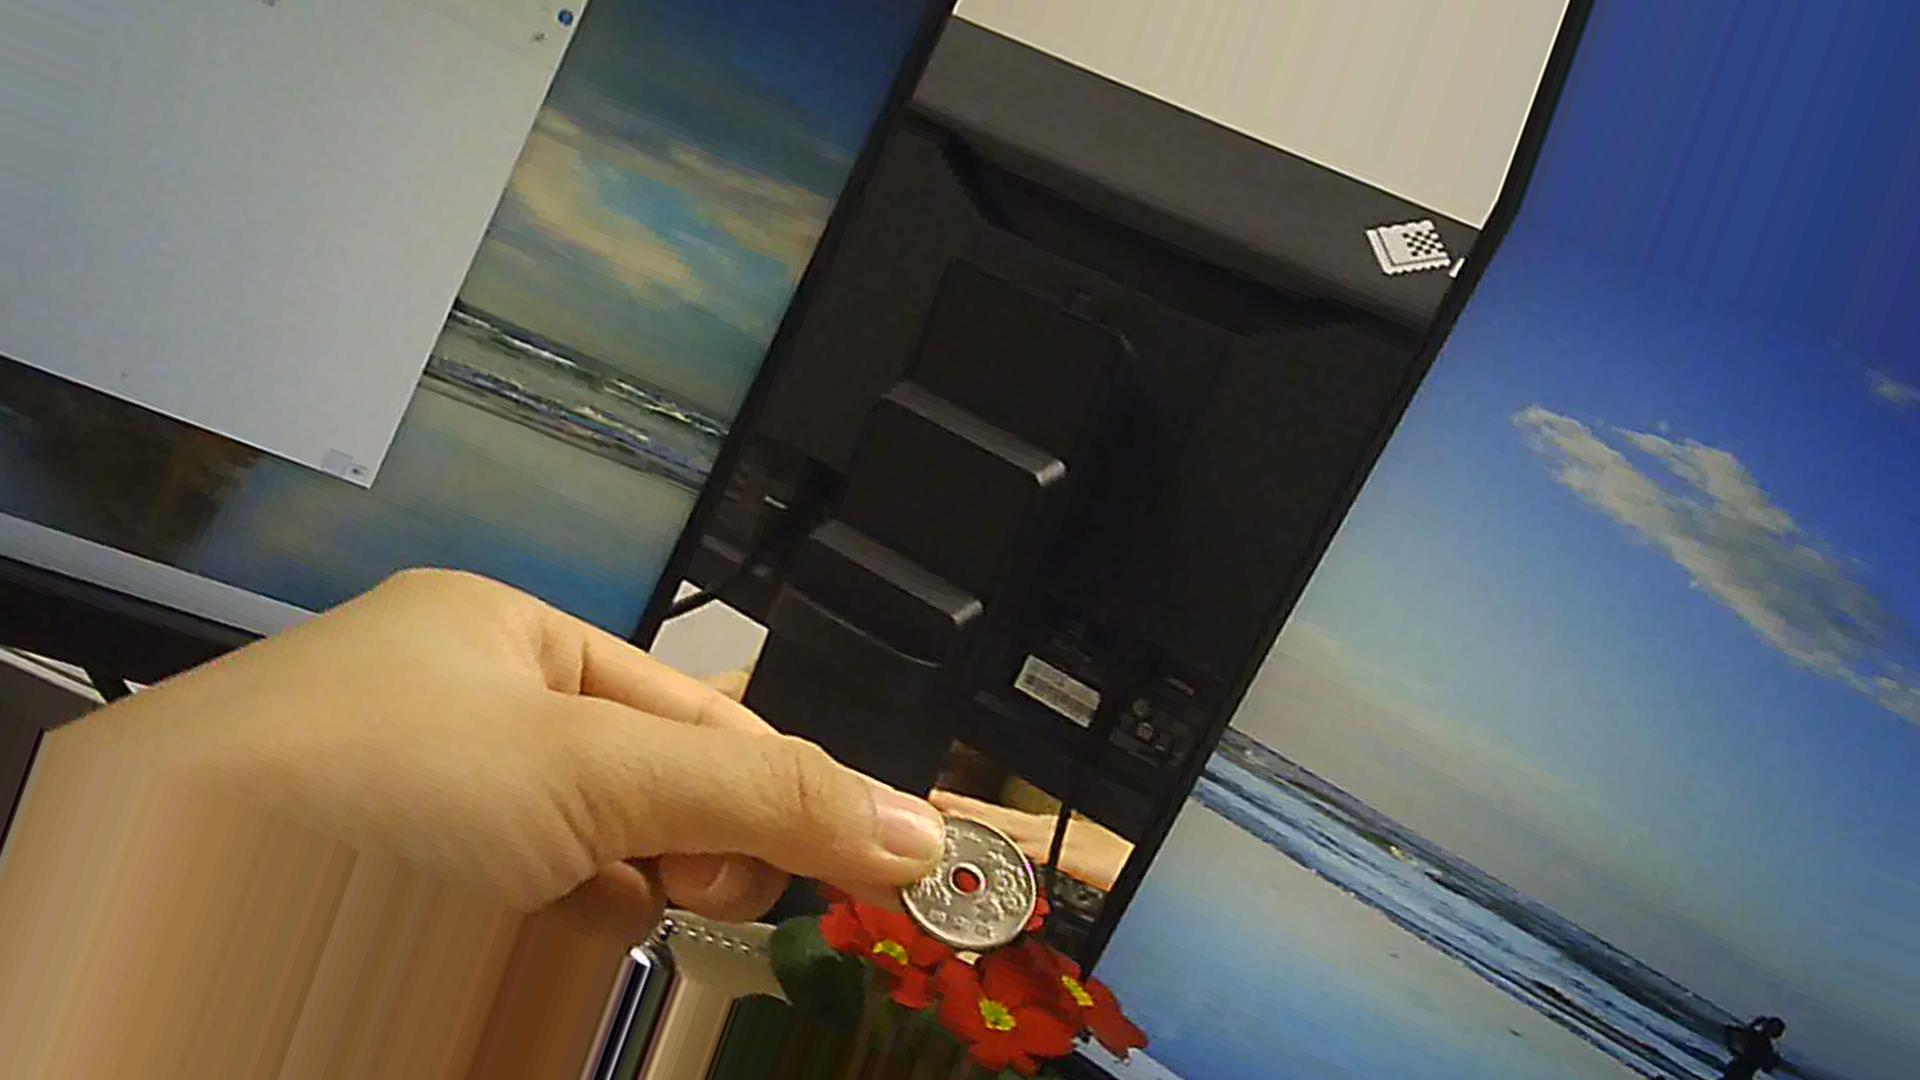50 Yen: (893, 793, 1038, 947)
